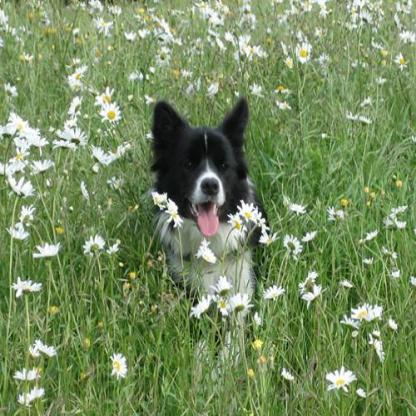Border_collie: (136, 87, 280, 364)
